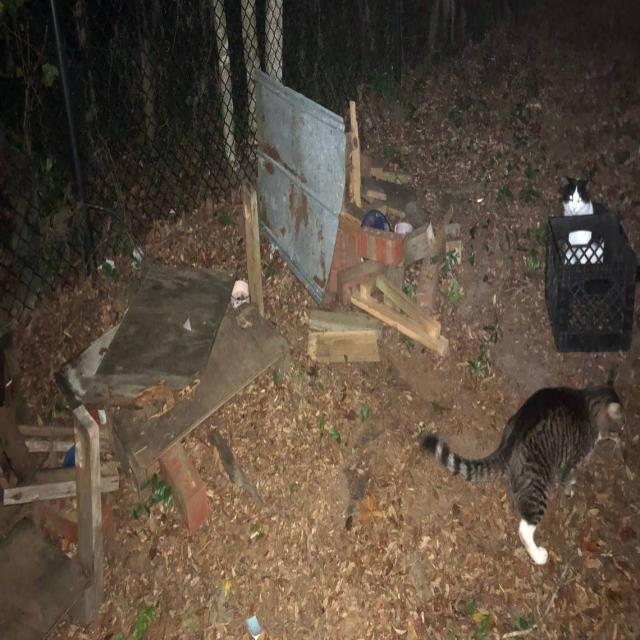cat: (421, 385, 625, 564), (562, 176, 594, 216)
